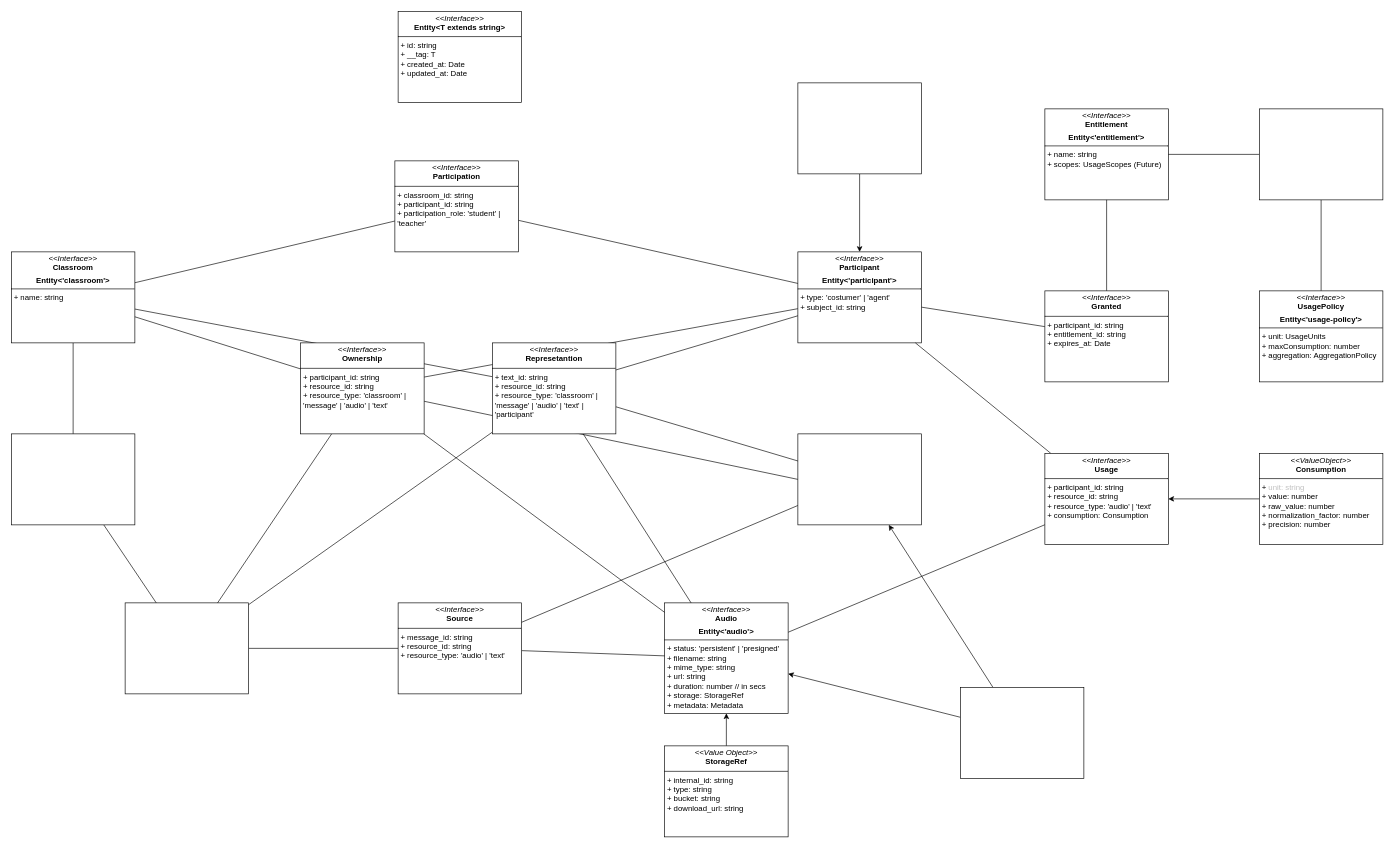
The diagram is 1394 pixels wide and 848 high, and some of its shapes have lost their labels. The shapes that lost their labels are listed below. From the top down, each one's centre as x and y in pixels, then its label:
[859,128]: <<Interface>> Agent Entity<'agent'> + name: string
[1321,154]: <<Interface>> PolicyAggregate + usage_policy_id: string + entitlement_id: string
[73,479]: <<Interface>> OccursIn + classroom_id: string + message_id: string
[859,479]: <<Interface>> Text Entity<'text'> + content: string + metadata: Metadata
[186,648]: <<Interface>> Message Entity<'message'> + metadata: Metadata
[1022,732]: <<Value Object>> Metadata + [string]: any
